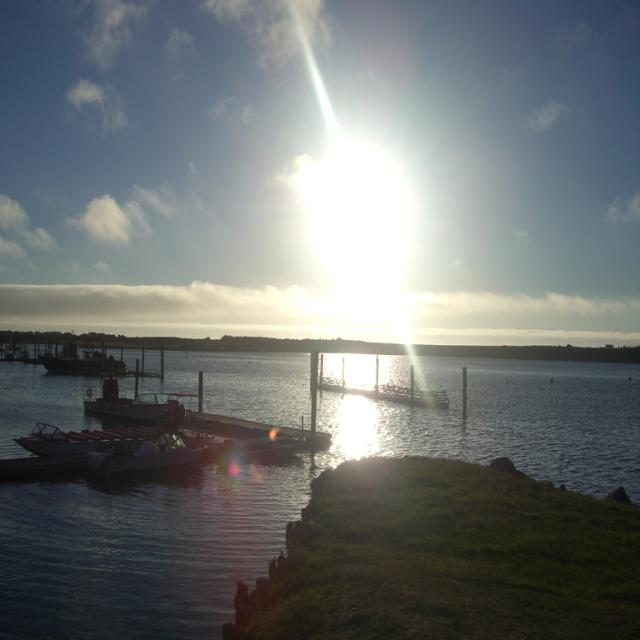Boat: (17, 395, 196, 459), (80, 368, 194, 434)
